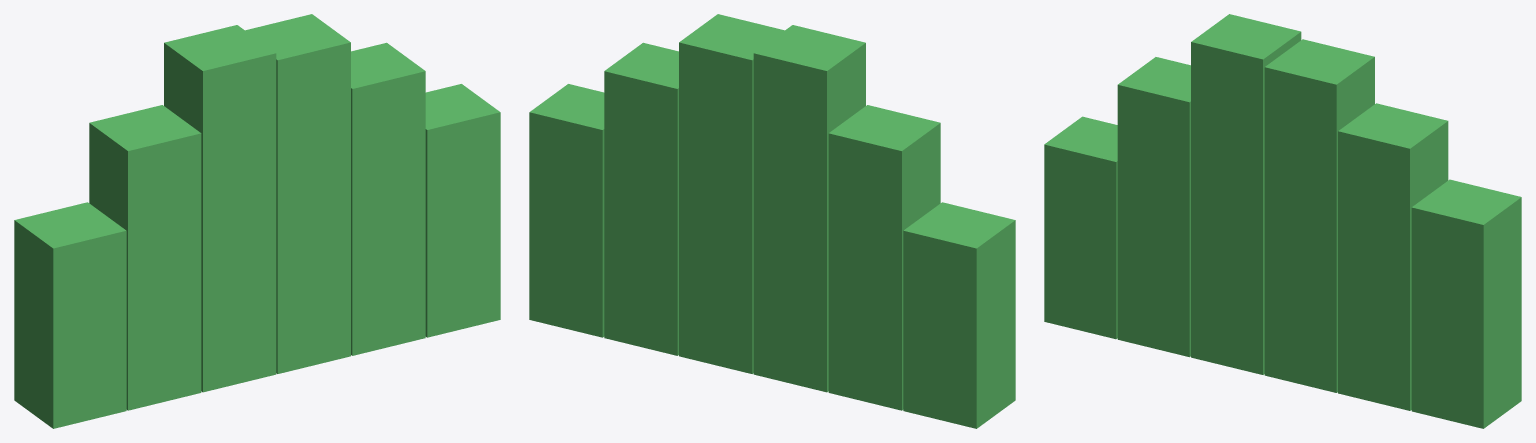
Rendered from ruin_wall_260_collision.glb.
The picture shows the model from 3 angles, left to right: view 1: azimuth 30°, elevation 25°; view 2: azimuth 150°, elevation 25°; view 3: azimuth 330°, elevation 25°; orthographic projection.
Parts seen in each view (by area): view 1: ruin_wall_260_profile_2-col, ruin_wall_260_profile_3-col, ruin_wall_260_profile_1-col, ruin_wall_260_profile_0-col, ruin_wall_260_profile_4-col, ruin_wall_260_profile_5-col; view 2: ruin_wall_260_profile_2-col, ruin_wall_260_profile_3-col, ruin_wall_260_profile_1-col, ruin_wall_260_profile_0-col, ruin_wall_260_profile_4-col, ruin_wall_260_profile_5-col; view 3: ruin_wall_260_profile_3-col, ruin_wall_260_profile_2-col, ruin_wall_260_profile_5-col, ruin_wall_260_profile_4-col, ruin_wall_260_profile_1-col, ruin_wall_260_profile_0-col.
Part boxes in pixels (bbox=[...]): ruin_wall_260_profile_2-col: bbox=[164, 25, 276, 392]; ruin_wall_260_profile_3-col: bbox=[245, 14, 350, 373]; ruin_wall_260_profile_1-col: bbox=[89, 105, 201, 410]; ruin_wall_260_profile_0-col: bbox=[14, 202, 126, 428]; ruin_wall_260_profile_4-col: bbox=[351, 42, 425, 355]; ruin_wall_260_profile_5-col: bbox=[425, 84, 500, 337]; ruin_wall_260_profile_2-col: bbox=[753, 25, 865, 392]; ruin_wall_260_profile_3-col: bbox=[679, 14, 784, 373]; ruin_wall_260_profile_1-col: bbox=[828, 105, 940, 410]; ruin_wall_260_profile_0-col: bbox=[903, 202, 1015, 428]; ruin_wall_260_profile_4-col: bbox=[604, 42, 678, 355]; ruin_wall_260_profile_5-col: bbox=[529, 84, 604, 337]; ruin_wall_260_profile_3-col: bbox=[1264, 39, 1374, 392]; ruin_wall_260_profile_2-col: bbox=[1191, 14, 1301, 374]; ruin_wall_260_profile_5-col: bbox=[1411, 179, 1521, 428]; ruin_wall_260_profile_4-col: bbox=[1338, 103, 1448, 410]; ruin_wall_260_profile_1-col: bbox=[1117, 57, 1190, 357]; ruin_wall_260_profile_0-col: bbox=[1044, 116, 1117, 339].
Bounding box in the file's own units: 3.79 × 2.6 × 0.5704.
